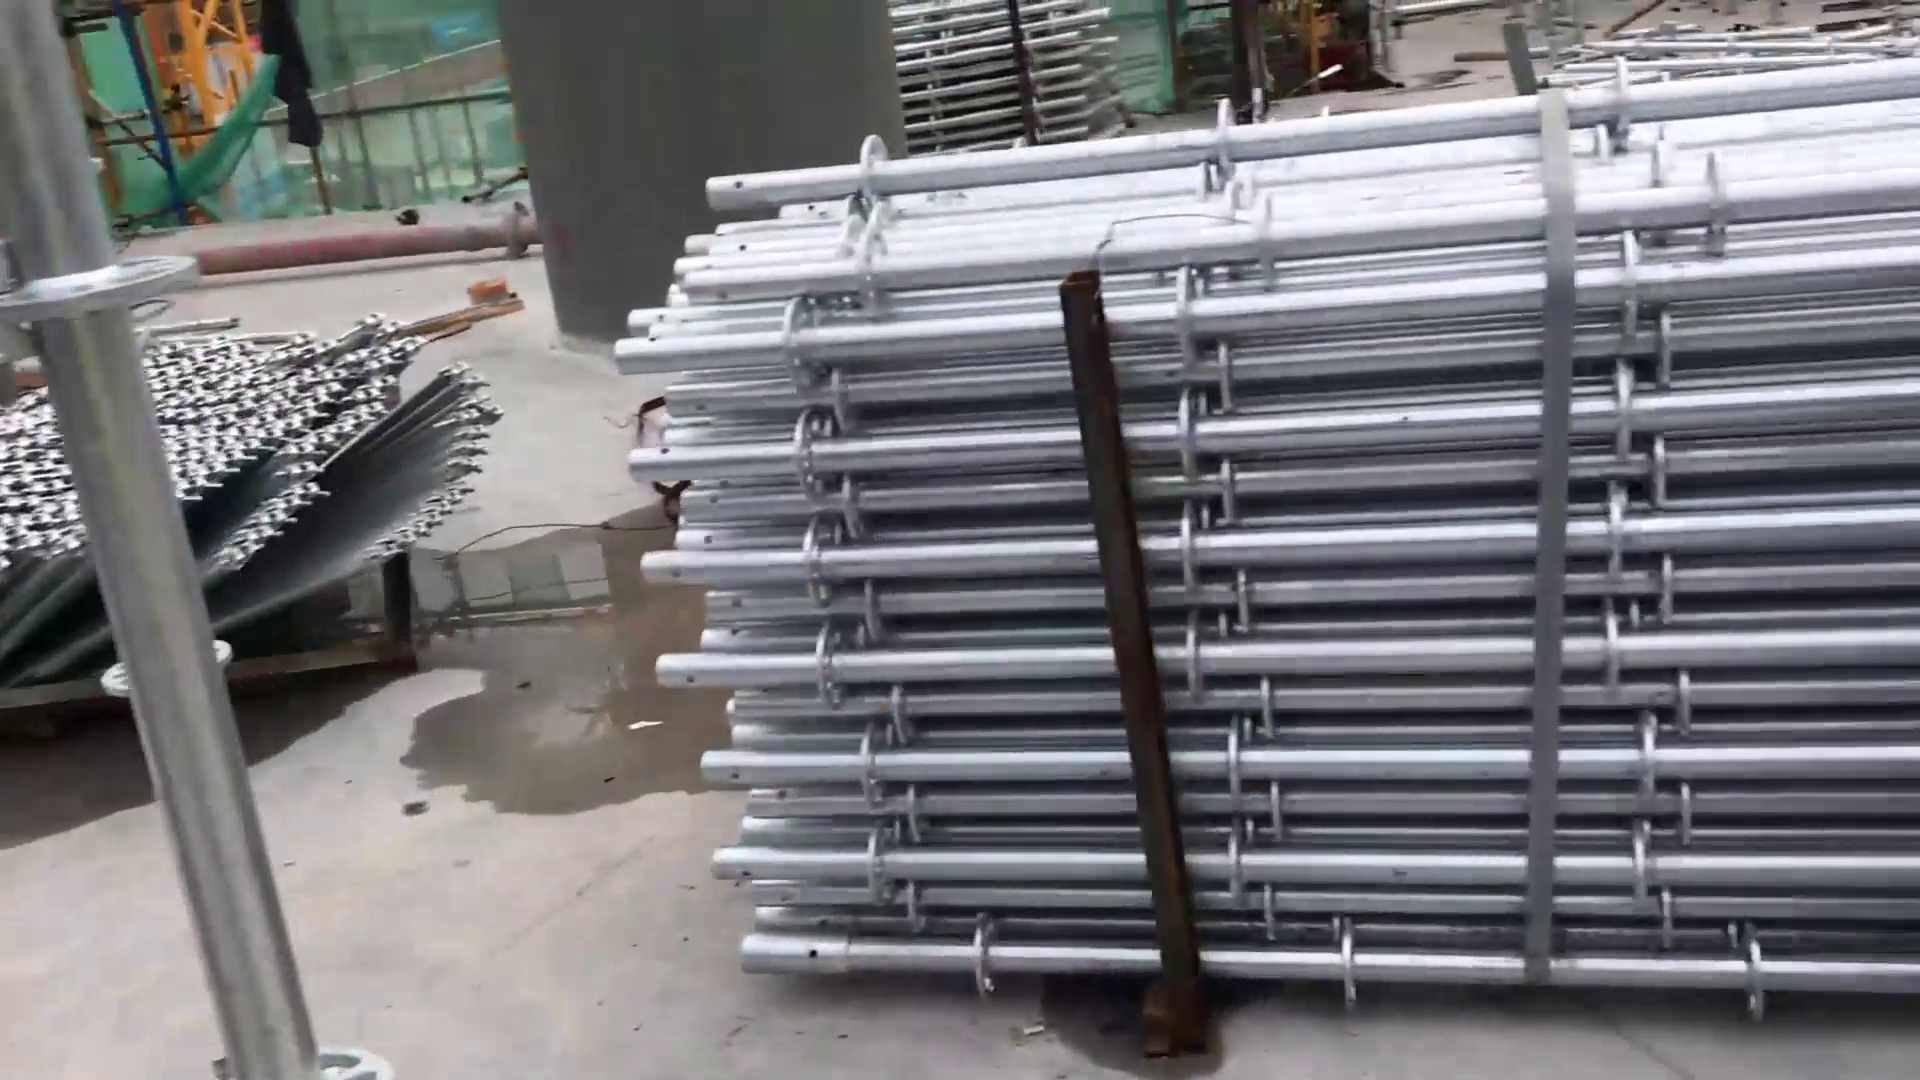scaffold: (622, 46, 1920, 1025), (1, 311, 517, 658)
